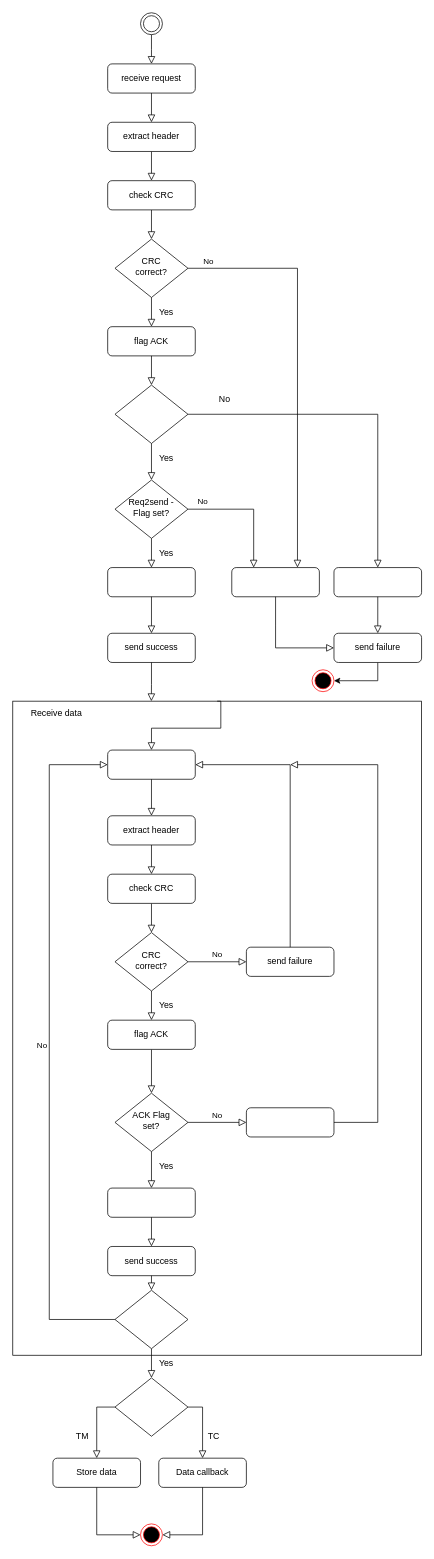
The diagram is 434 pixels wide and 1559 high, and some of its shapes have lost their labels. The shapes that lost their labels are listed below. From the top down, each one's centre as x and y in pixels, then its label:
point 151,413: ID known?
point 151,582: Flag Rdy2Rcv
point 275,582: Unset all Frags
point 377,582: Set only "ID unknown"-Flag
point 151,764: wait on answer
point 290,1122: send last answer again
point 151,1202: add receiced data to buffer
point 151,1319: END Flag set?
point 151,1406: ID type
